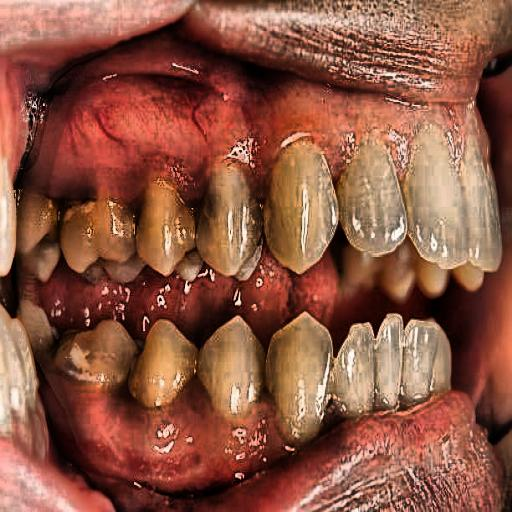Gingivitis: (20, 32, 264, 215), (36, 360, 305, 495), (270, 70, 494, 170)
